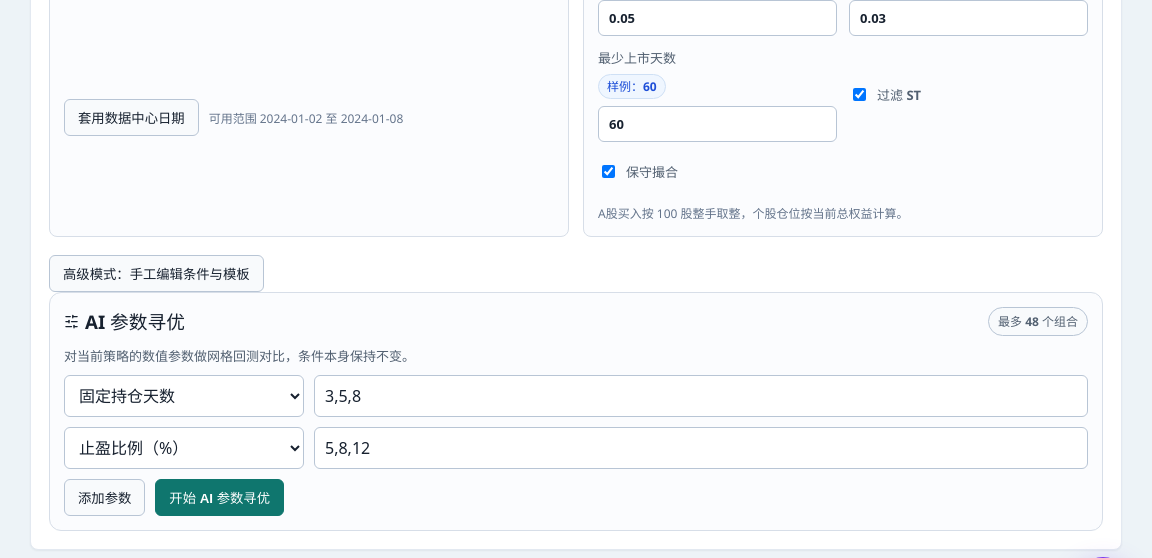
Test: A 股回测工作台界面 › keeps exit templates beside the exit rule editor and applies them to the exit input
(page scrolled)
What coordinates should you click on to do the following:
click the button "高级模式：手工编辑条件与模板"
I would click on:
 (156, 273)
Its box is [49,255,264,292].
(page scrolled)
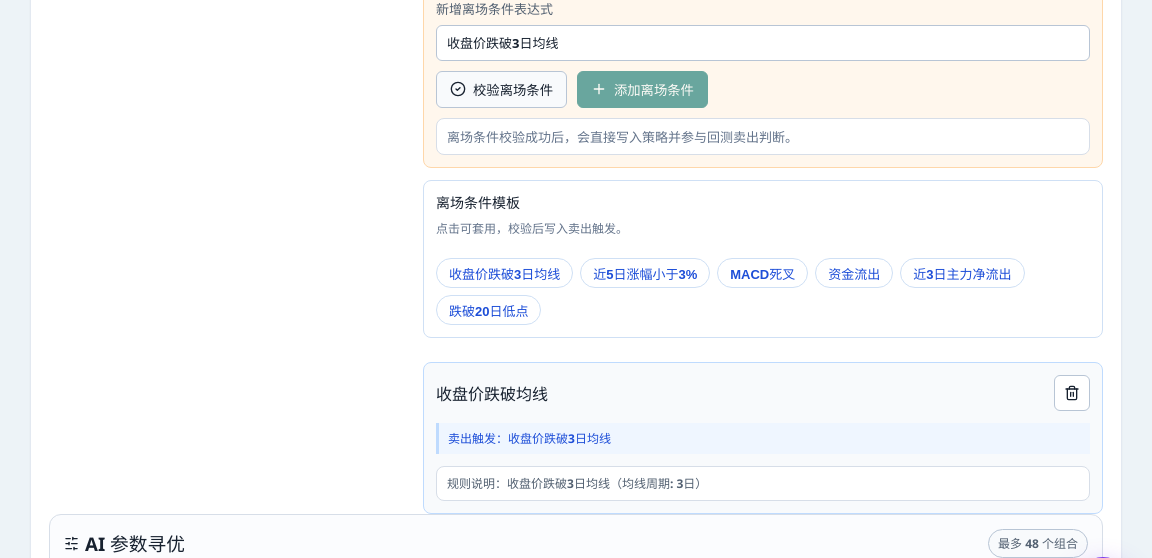
Check: the element "离场规则" shows "离场条件模板", box [436,194,520,213]
Check: the element "离场规则" shows "点击可套用", box [436,220,628,237]
Check: the element "离场规则" shows "收盘价跌破3日均线", box [436,258,573,288]
What coordinates should you click on to do the following:
click the button with aria-label "套用离场条件：MACD死叉"
I would click on:
 (763, 273)
Its box is [717,258,808,288].
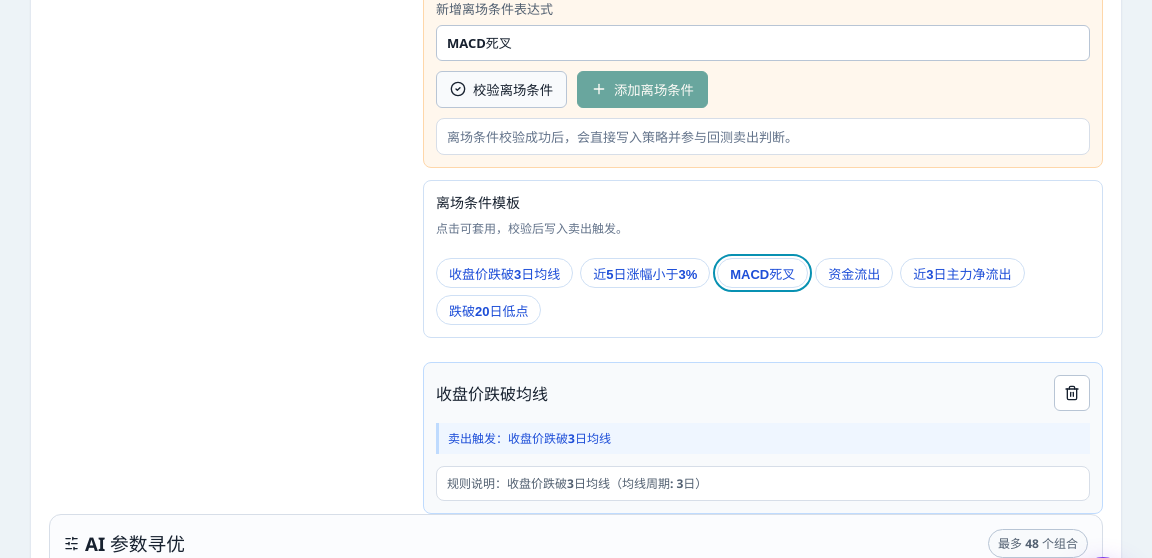
Check: the field labelled "新增离场条件表达式" holds "MACD死叉", box [436,25,1090,61]
